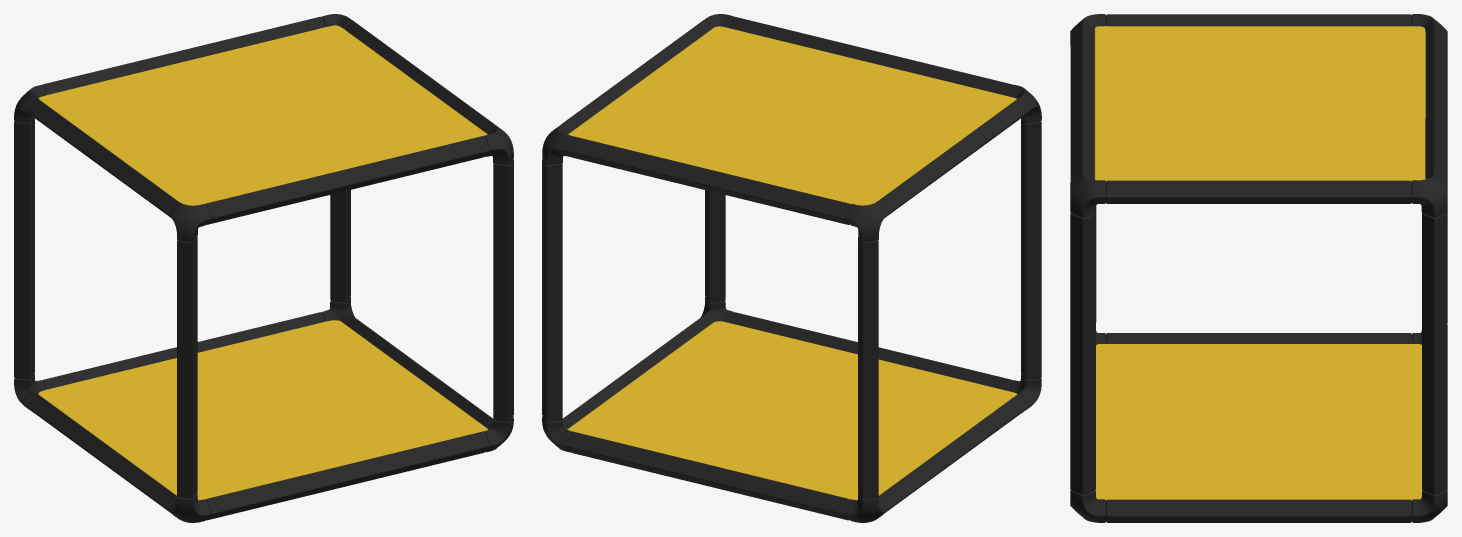
3 renders of one model, left to right at view 1: azimuth 30°, elevation 25°; view 2: azimuth 150°, elevation 25°; view 3: azimuth 270°, elevation 25°, orthographic. The views are drawn at different scales.
Visible parts, largest first — view 1: 374x329x329; view 2: 374x329x329; view 3: 374x329x329.
Part boxes in pixels (box(x1,y1,x2,y2)): 374x329x329: box(14, 14, 513, 522); 374x329x329: box(542, 14, 1041, 522); 374x329x329: box(1070, 14, 1447, 522).
Bounding box in the file's own units: 0.4517 × 0.4067 × 0.4063.
